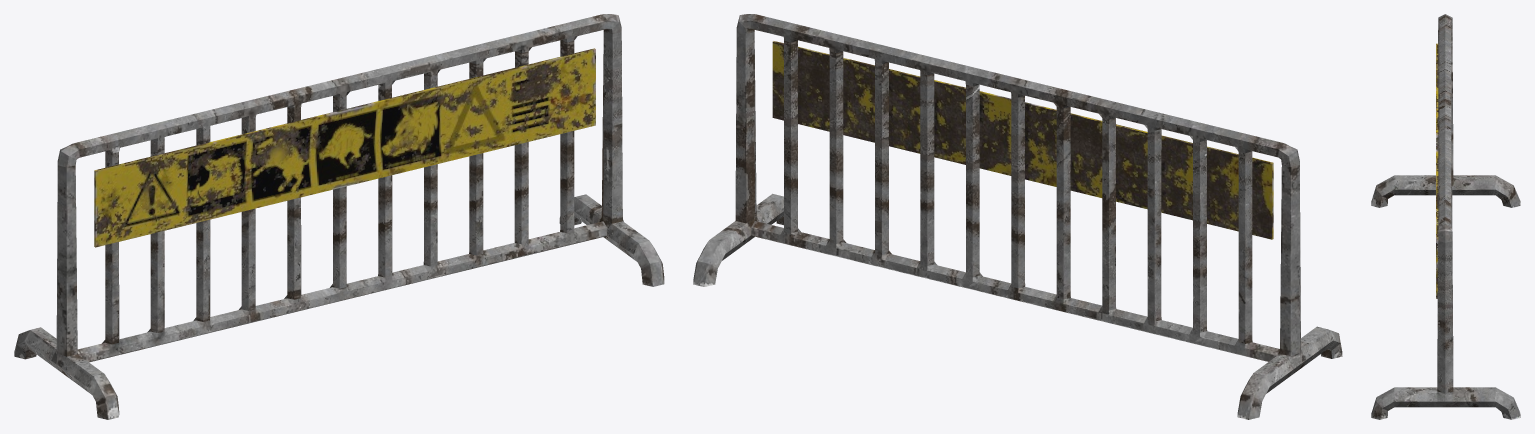
File: guard_rail.glb
3 views of the same model, side by side, from view 1: azimuth 30°, elevation 25°; view 2: azimuth 150°, elevation 25°; view 3: azimuth 270°, elevation 25° (orthographic). The views are drawn at different scales.
Parts seen in each view (by area): view 1: railing_barrier_metal, railing_barrier_sign; view 2: railing_barrier_metal, railing_barrier_sign; view 3: railing_barrier_metal, railing_barrier_sign.
Part boxes in pixels (bbox=[...]): railing_barrier_metal: bbox=[14, 14, 664, 419]; railing_barrier_sign: bbox=[94, 48, 595, 247]; railing_barrier_metal: bbox=[693, 14, 1342, 419]; railing_barrier_sign: bbox=[772, 41, 1273, 239]; railing_barrier_metal: bbox=[1371, 14, 1520, 419]; railing_barrier_sign: bbox=[1436, 43, 1438, 298].
Size of the model in its own units: 2.93 by 1.18 by 0.8386.
Materials: 1 (1 with a texture image).
